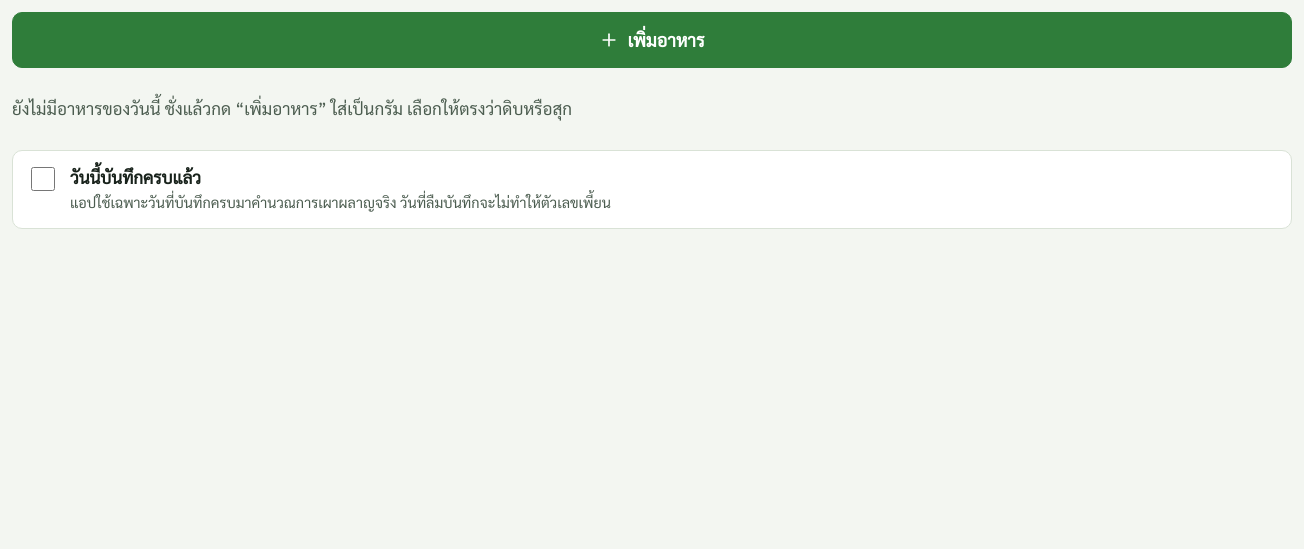
Scenario: FoodLogScreen › grams in the wrong unit show an error and log nothing
Step 1. Click the button "เพิ่มอาหาร" → click(652, 40), box x1=12 y1=12 x2=1292 y2=68
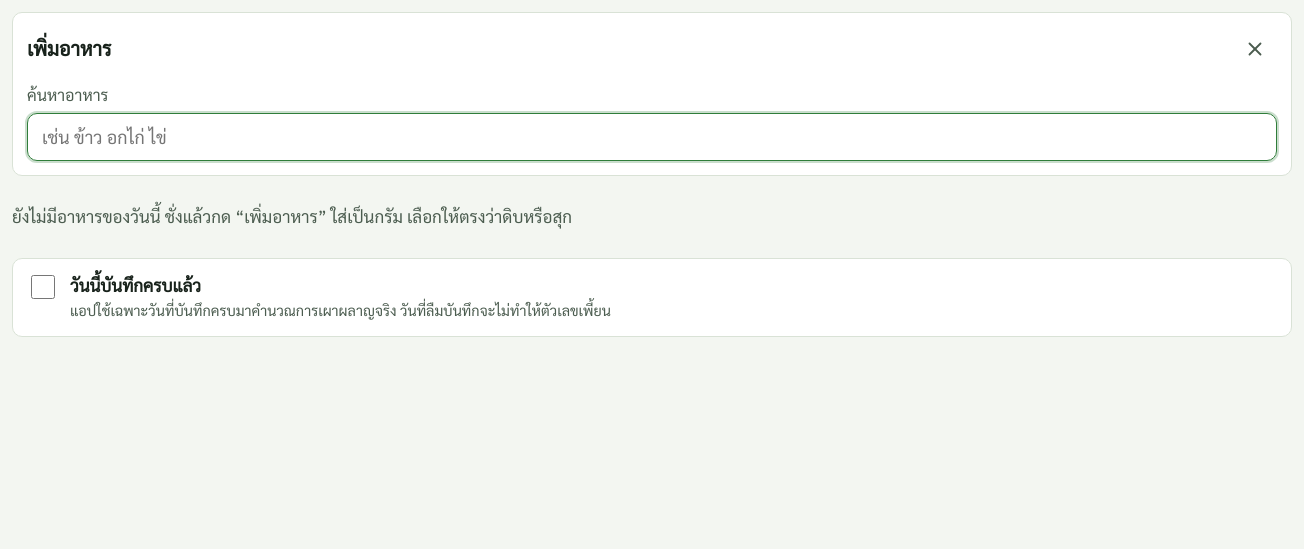
Step 2. Type "ข้าวขาว" into the search field labelled "ค้นหาอาหาร" → (652, 137), box x1=27 y1=113 x2=1277 y2=161
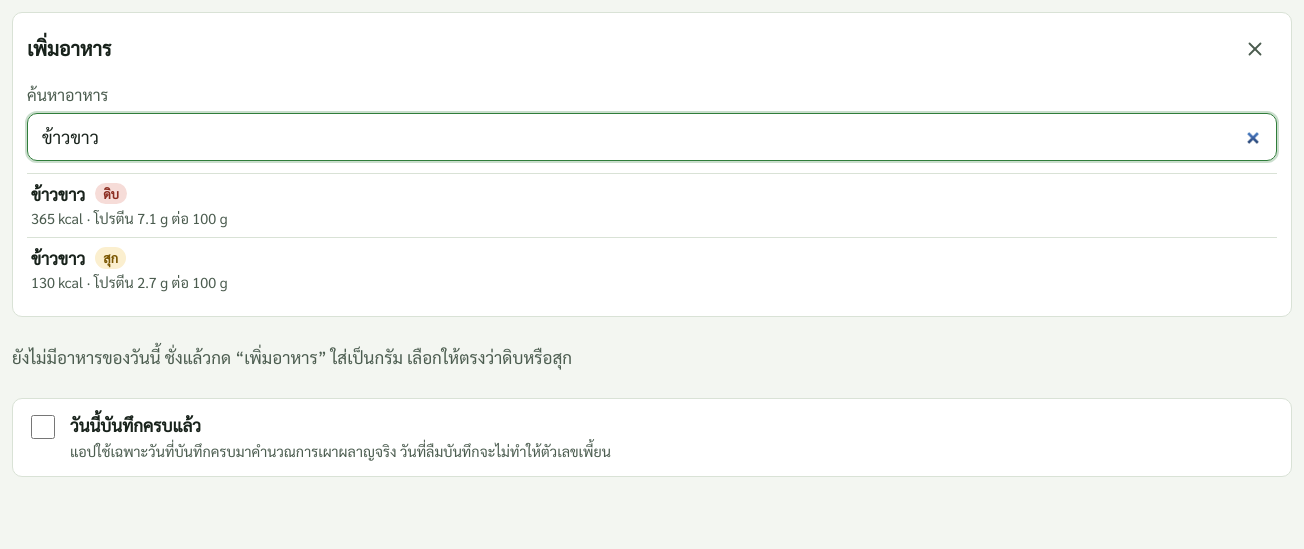
Step 3. Click the button "ข้าวขาว สุก 130 kcal · โปรตีน 2.7 g ต่อ 100 g" → click(58, 258), box x1=27 y1=237 x2=1277 y2=302
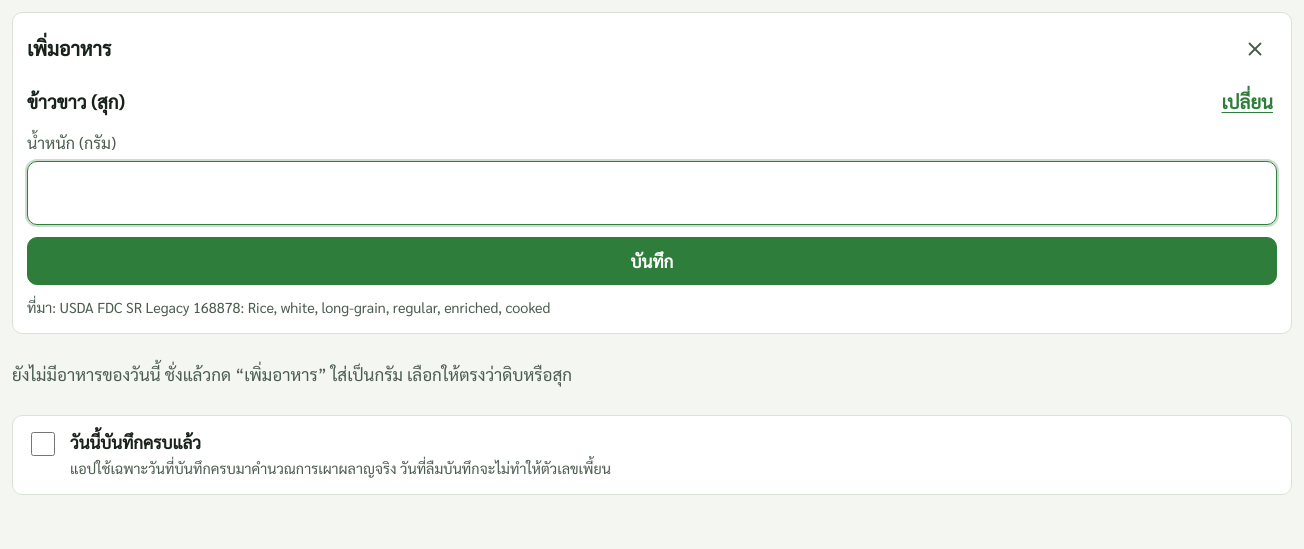
Step 4. Type "0.2" into the field labelled "น้ำหนัก (กรัม)" → (652, 193), box x1=27 y1=161 x2=1277 y2=225
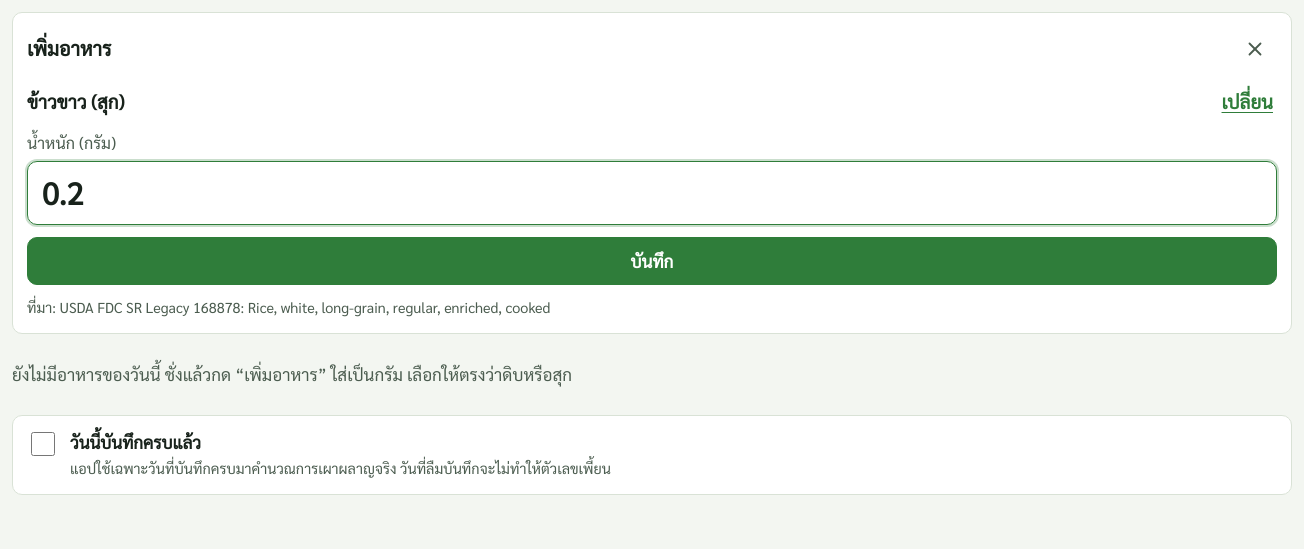
Step 5. Click the button "บันทึก" → click(652, 261), box x1=27 y1=237 x2=1277 y2=285
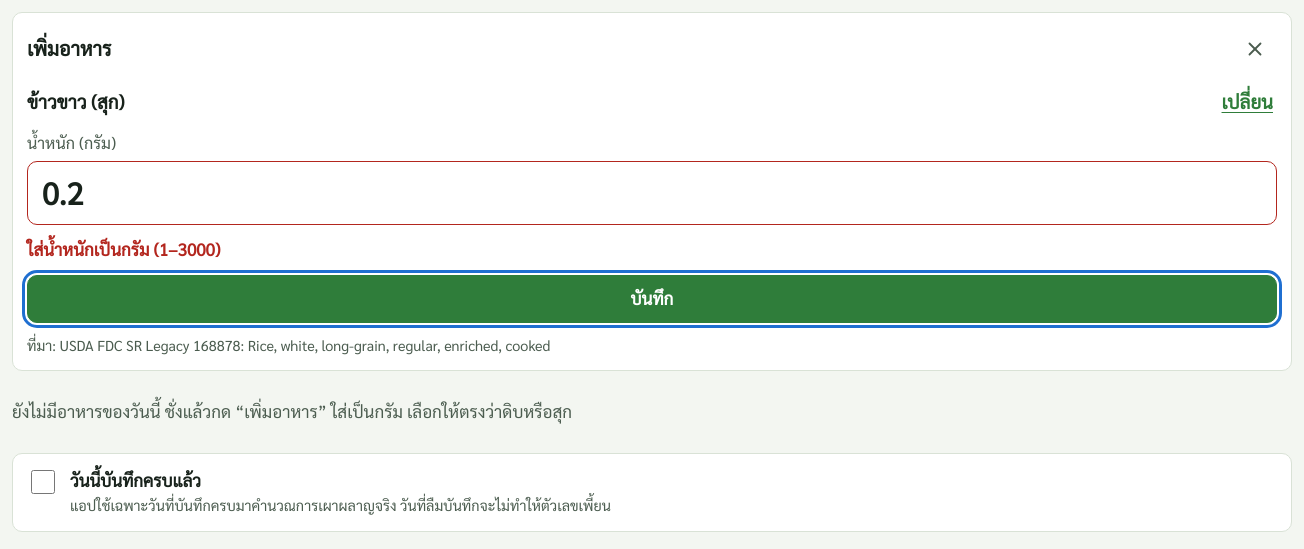
Result: the text "ใส่น้ำหนักเป็นกรัม (1–3000)" is shown at x1=27 y1=238 x2=220 y2=260
